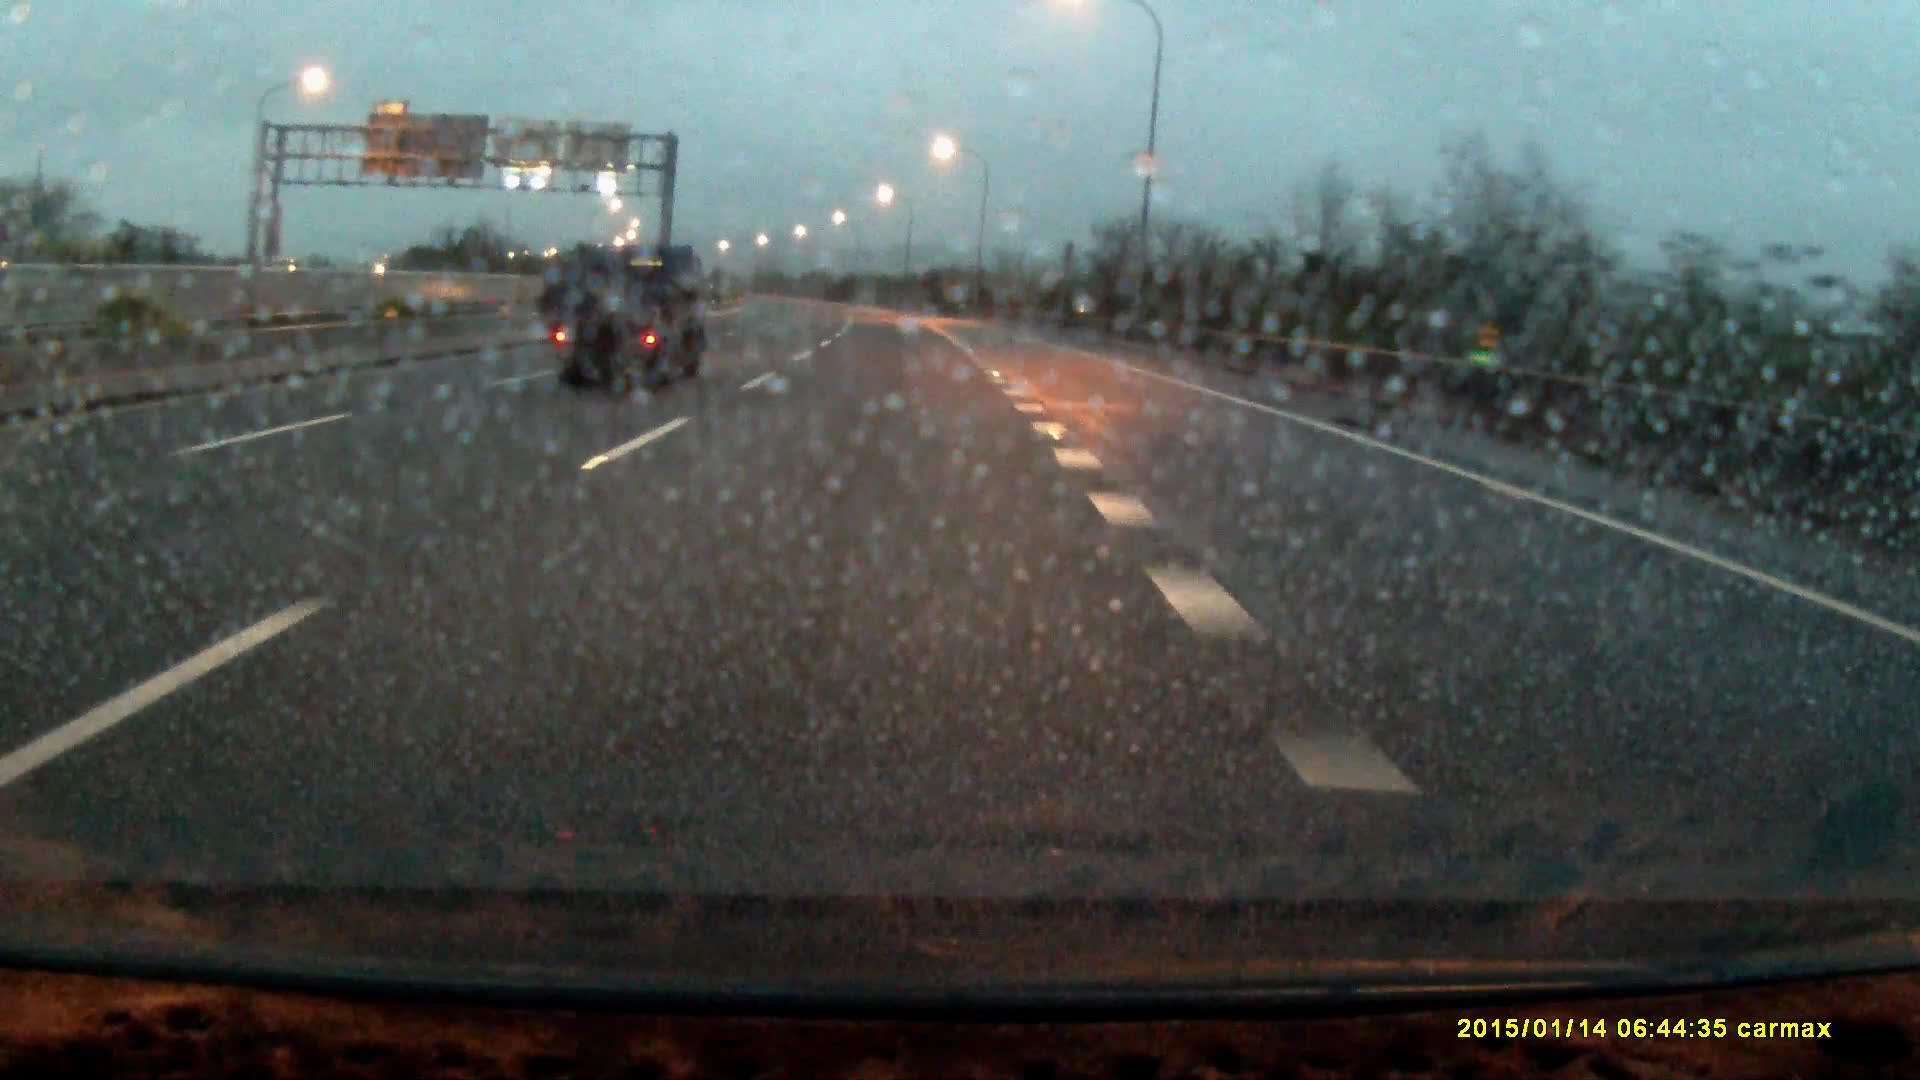vehicle: (549, 252, 713, 396)
